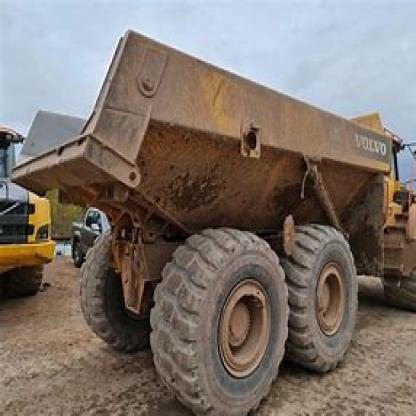dump_truck: (16, 26, 415, 414)
